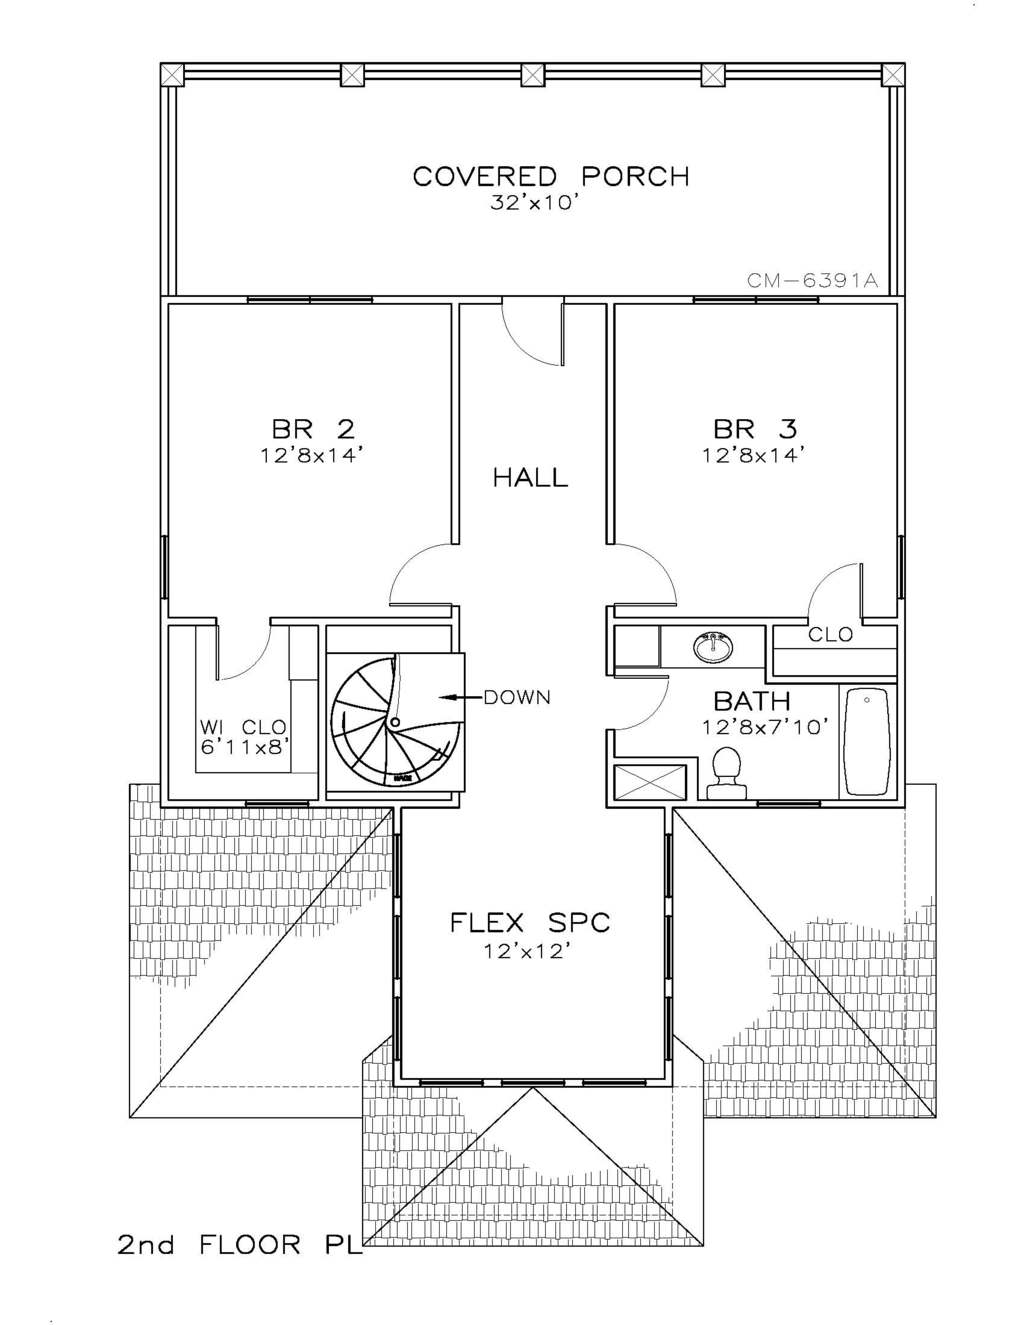coffee_table: (606, 760, 696, 807)
door: (382, 533, 459, 608), (497, 297, 572, 367), (603, 540, 680, 608), (606, 666, 670, 739), (213, 618, 278, 684), (806, 560, 868, 624)
large_sink: (706, 740, 752, 807)
small_sink: (670, 622, 751, 671)
stairs: (327, 662, 453, 786)
tub: (841, 681, 897, 795)
